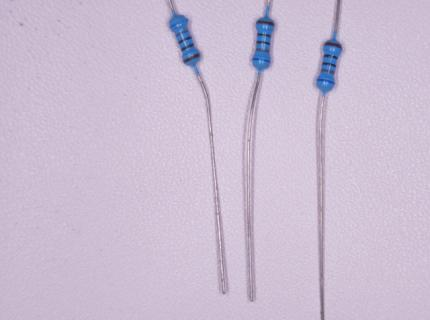Black band: (178, 35, 193, 45), (180, 43, 195, 52), (322, 61, 337, 68), (323, 54, 338, 60), (257, 33, 272, 38), (256, 40, 271, 45)
Blue band: (170, 20, 188, 28), (317, 79, 335, 85), (252, 58, 270, 62)
Brown band: (183, 52, 200, 64), (324, 42, 342, 49), (256, 20, 274, 26)
Grey band: (175, 29, 189, 38), (321, 69, 335, 75), (256, 49, 270, 54)
